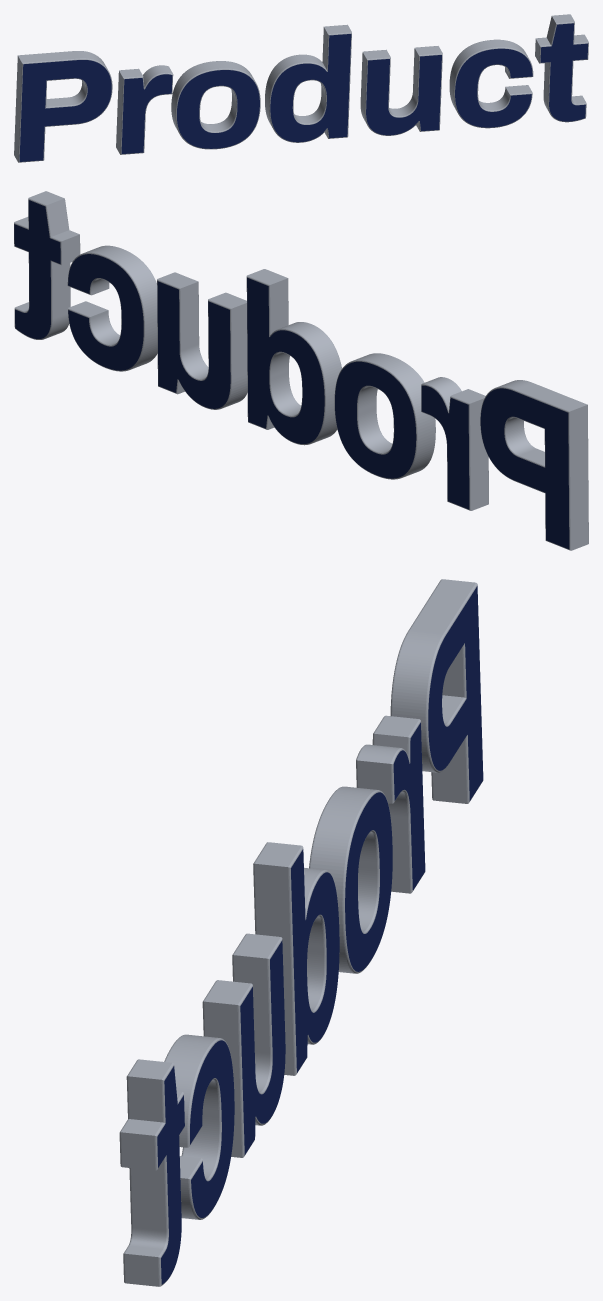
The picture shows the model from 3 angles, top to bottom: view 1: azimuth 30°, elevation 25°; view 2: azimuth 150°, elevation 25°; view 3: azimuth 270°, elevation 25°; orthographic projection. The views are drawn at different scales.
Parts seen in each view (by area): view 1: Product / outlined glyph 1, Product / outlined glyph 4, Product / outlined glyph 3, Product / outlined glyph 5, Product / outlined glyph 6, Product / outlined glyph 7, Product / outlined glyph 2; view 2: Product / outlined glyph 1, Product / outlined glyph 4, Product / outlined glyph 5, Product / outlined glyph 3, Product / outlined glyph 6, Product / outlined glyph 7, Product / outlined glyph 2; view 3: Product / outlined glyph 1, Product / outlined glyph 4, Product / outlined glyph 7, Product / outlined glyph 5, Product / outlined glyph 3, Product / outlined glyph 6, Product / outlined glyph 2.
Boxes of the visible parts, x1,y1,x2,y2 form: Product / outlined glyph 1: [14, 51, 112, 162]; Product / outlined glyph 4: [265, 24, 351, 142]; Product / outlined glyph 3: [171, 61, 260, 149]; Product / outlined glyph 5: [360, 46, 442, 135]; Product / outlined glyph 6: [449, 39, 533, 128]; Product / outlined glyph 7: [535, 14, 588, 122]; Product / outlined glyph 2: [116, 65, 173, 154]; Product / outlined glyph 1: [480, 380, 588, 550]; Product / outlined glyph 4: [246, 269, 341, 445]; Product / outlined glyph 5: [157, 272, 247, 409]; Product / outlined glyph 3: [334, 353, 435, 479]; Product / outlined glyph 6: [67, 245, 157, 371]; Product / outlined glyph 7: [14, 191, 80, 339]; Product / outlined glyph 2: [421, 377, 488, 510]; Product / outlined glyph 1: [390, 579, 483, 803]; Product / outlined glyph 4: [253, 842, 339, 1075]; Product / outlined glyph 7: [119, 1059, 184, 1286]; Product / outlined glyph 5: [202, 933, 285, 1157]; Product / outlined glyph 3: [309, 786, 392, 973]; Product / outlined glyph 6: [164, 1034, 234, 1219]; Product / outlined glyph 2: [356, 715, 425, 893].
Bounding box in the file's own units: 8.22 × 1.88 × 2.63.
